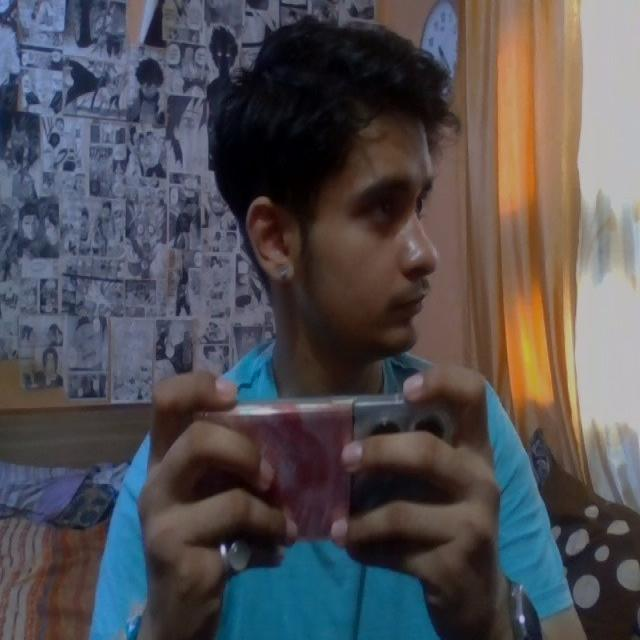phone: (192, 406, 471, 542)
using-phone: (88, 22, 588, 636)
